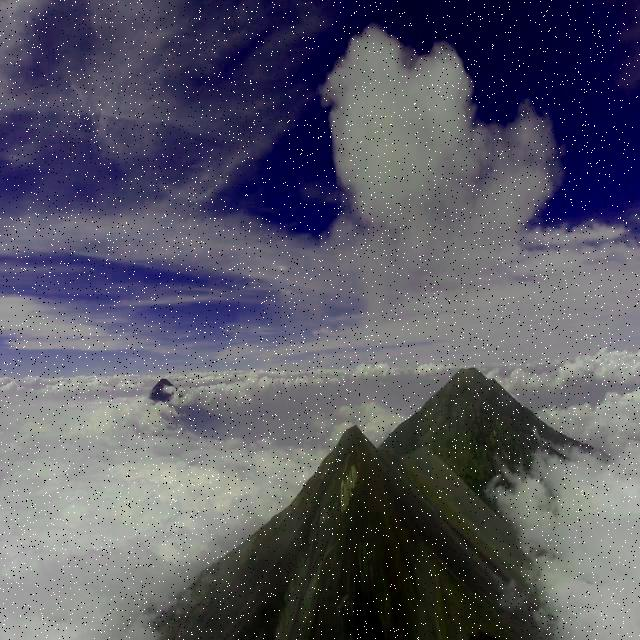Summit: (293, 417, 420, 515)
